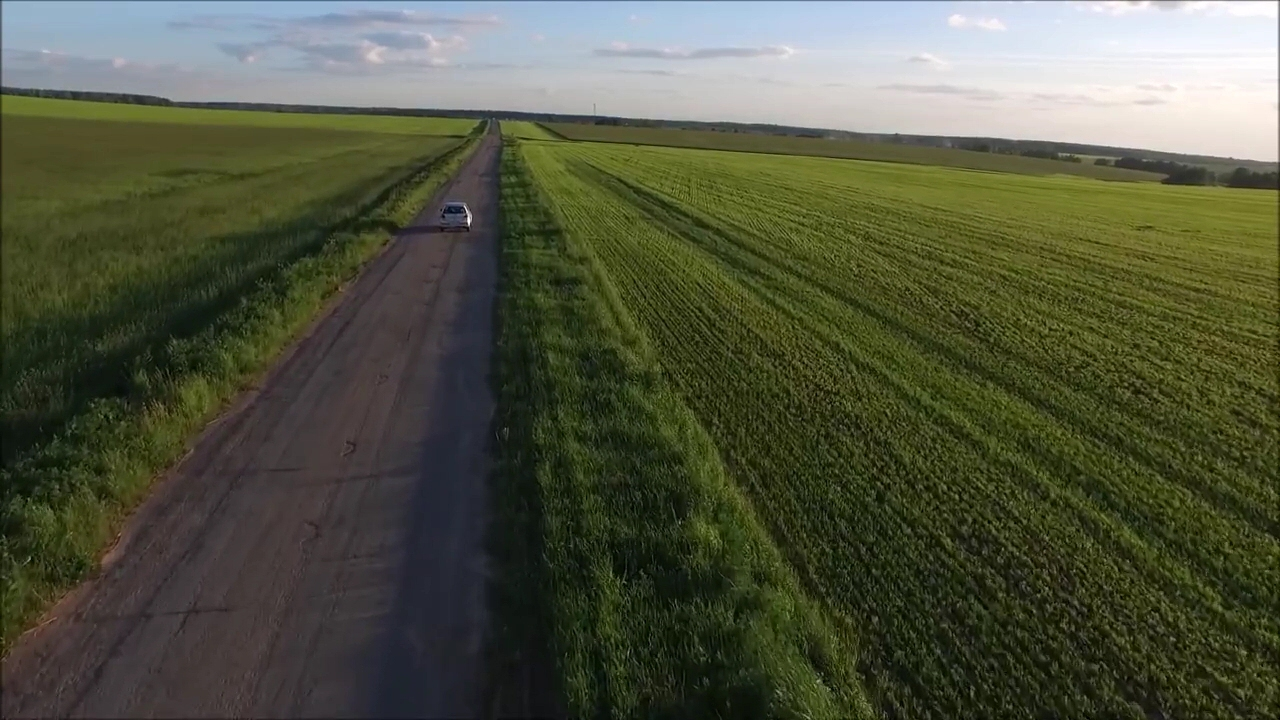araba: (440, 197, 475, 234)
